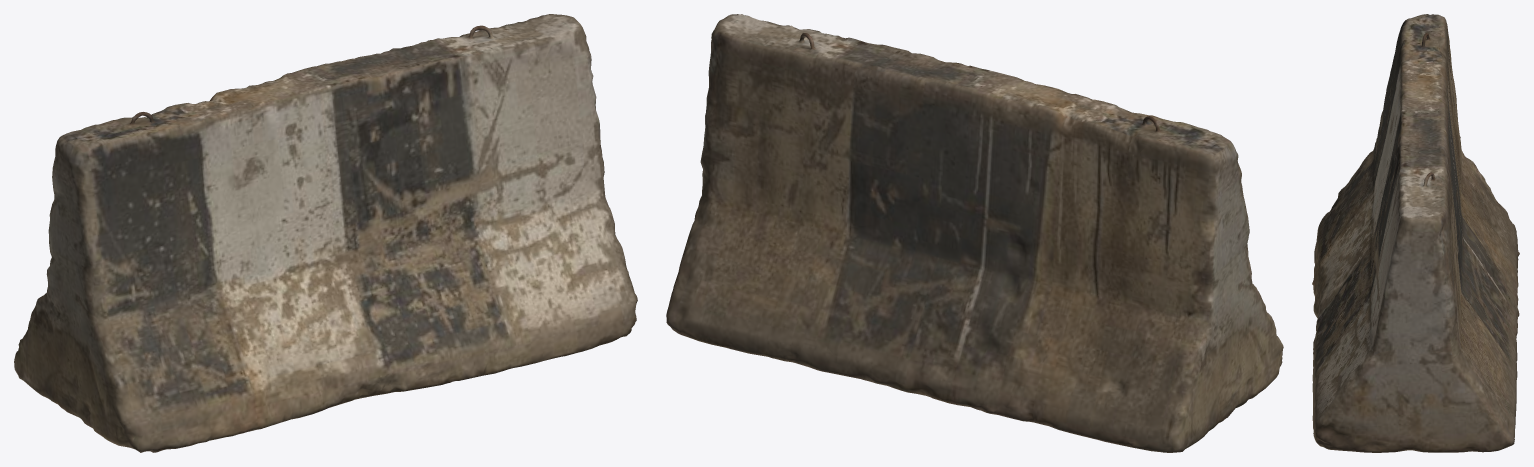
File: concrete_road_barrier.glb
The picture shows the model from 3 angles, left to right: view 1: azimuth 30°, elevation 25°; view 2: azimuth 150°, elevation 25°; view 3: azimuth 270°, elevation 25°; orthographic projection. The views are drawn at different scales.
Visible parts, largest first — view 1: concrete_road_barrier; view 2: concrete_road_barrier; view 3: concrete_road_barrier.
Boxes of the visible parts, bbox=[...] form: concrete_road_barrier: bbox=[14, 14, 637, 452]; concrete_road_barrier: bbox=[666, 14, 1283, 452]; concrete_road_barrier: bbox=[1312, 14, 1519, 452].
Bounding box in the file's own units: 1.54 × 0.8308 × 0.6387.
Materials: 1 (1 with a texture image).
